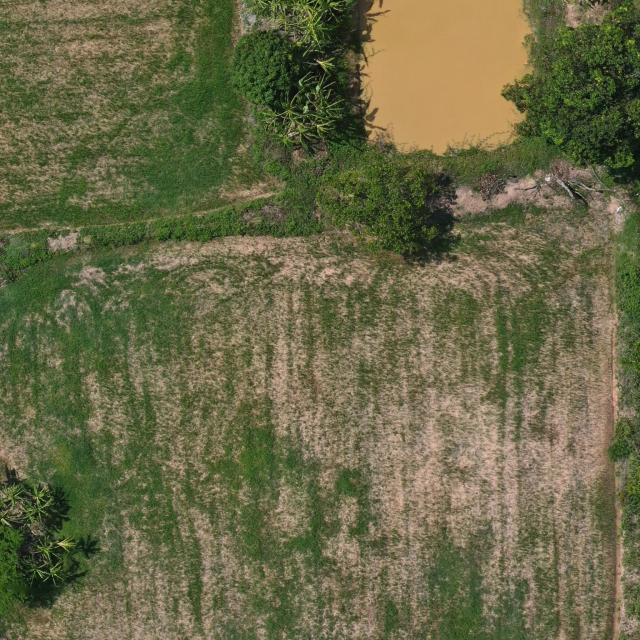banana_tree: (28, 536, 76, 556), (19, 497, 53, 524), (22, 556, 52, 585), (0, 482, 27, 509), (42, 555, 66, 584), (22, 483, 52, 502)
tree: (500, 19, 640, 174), (314, 163, 440, 257), (230, 29, 296, 104)
